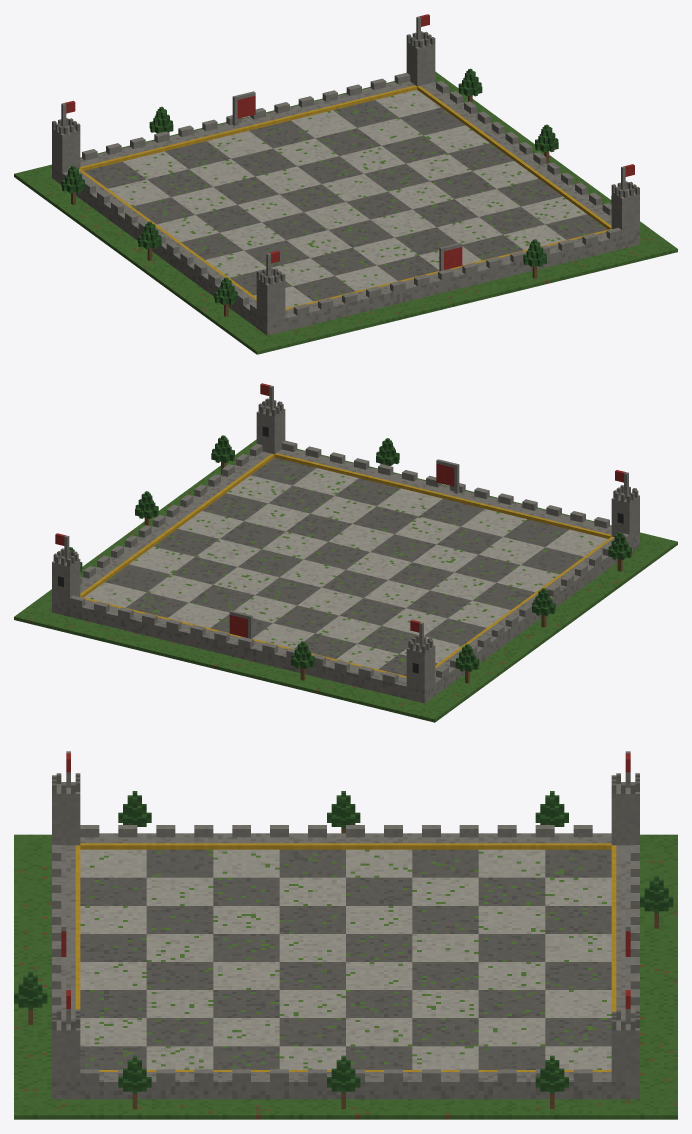
File: medieval_board.glb
3 views of the same model, one above another, from view 1: azimuth 30°, elevation 25°; view 2: azimuth 150°, elevation 25°; view 3: azimuth 270°, elevation 25° (orthographic). The views are drawn at different scales.
Bounding box in the file's own units: 14 × 2.5 × 14.
